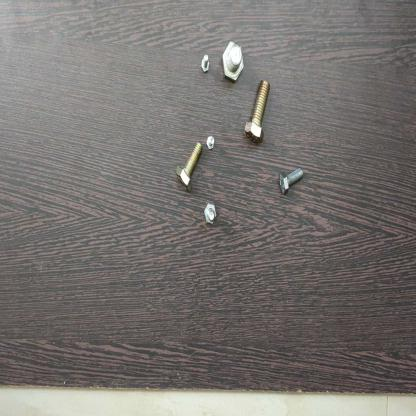Bolts: (244, 74, 273, 155), (173, 139, 206, 194), (220, 41, 254, 86), (277, 158, 306, 198), (201, 198, 219, 238), (199, 52, 213, 80)
